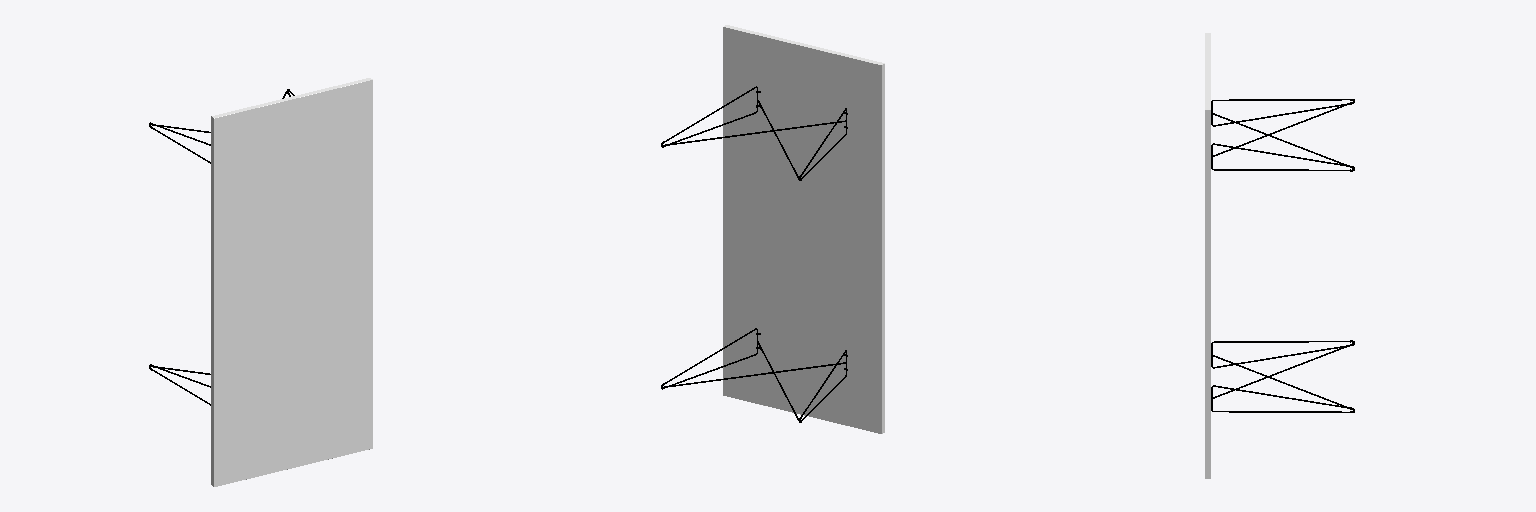
File: Magis_XZ3_200_mat(2).obj
The picture shows the model from 3 angles: view 1: azimuth 30°, elevation 25°; view 2: azimuth 150°, elevation 25°; view 3: azimuth 270°, elevation 25°; orthographic projection.
Parts seen in each view (by area): view 1: Magis_XZ3_200_mat2; view 2: Magis_XZ3_200_mat2; view 3: Magis_XZ3_200_mat2.
Part boxes in pixels (x1,y1,x2,y2): Magis_XZ3_200_mat2: (149, 78, 372, 486); Magis_XZ3_200_mat2: (661, 25, 884, 433); Magis_XZ3_200_mat2: (1205, 33, 1354, 478).
Bounding box in the file's own units: 90 × 200 × 74.03.